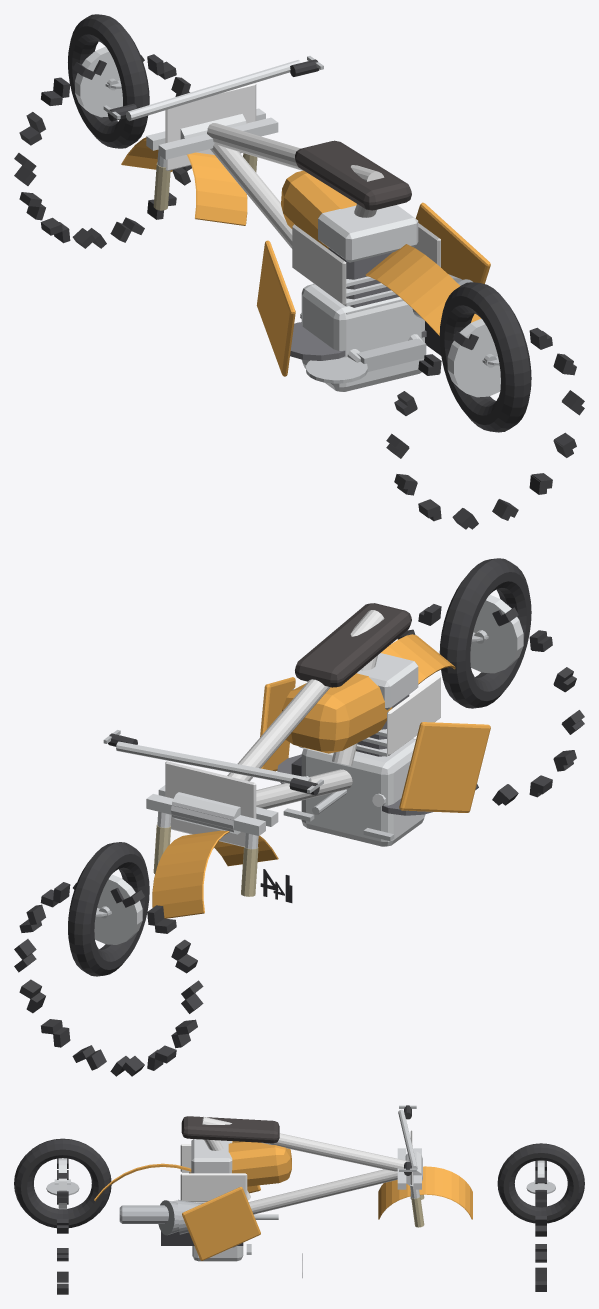
3 renders of one model, top to bottom at view 1: azimuth 30°, elevation 25°; view 2: azimuth 150°, elevation 25°; view 3: azimuth 270°, elevation 25°, orthographic. The views are drawn at different scales.
Visible parts, largest first — view 1: b_rear_wheel_tire, b_engine_case, b_front_wheel_tire, b_seat, b_engine_head, b_rear_fender, b_front_fender, b_front_plate, b_shroud_-1, b_rear_wheel_rim, b_tank, b_sideplate_-1 (+11 smaller); view 2: b_rear_wheel_tire, b_engine_case, b_shroud_-1, b_front_wheel_tire, b_tank, b_front_fender, b_seat, b_front_plate, b_frame_spine, b_rear_wheel_rim, b_sideplate_-1, b_front_wheel_rim (+8 smaller); view 3: b_rear_wheel_tire, b_front_wheel_tire, b_shroud_1, b_tank, b_front_fender, b_seat, b_frame_down, b_frame_spine, b_sideplate_1, b_engine_head, b_silencer, b_engine_case (+10 smaller).
Part boxes in pixels (x1,y1,x2,y2): b_rear_wheel_tire: (439,282,531,432); b_engine_case: (301,284,424,391); b_front_wheel_tire: (68,14,149,148); b_seat: (295,140,411,210); b_engine_head: (318,205,418,262); b_rear_fender: (365,244,480,335); b_front_fender: (121,137,247,225); b_front_plate: (165,83,256,170); b_shroud_-1: (256,240,295,376); b_rear_wheel_rim: (447,318,500,397); b_tank: (281,170,356,248); b_sideplate_-1: (292,224,346,305); b_rear_wheel_tire: (439,558,531,708); b_engine_case: (301,738,425,846); b_shroud_-1: (399,722,490,812); b_front_wheel_tire: (68,842,149,976); b_tank: (282,673,392,753); b_front_fender: (152,830,278,918); b_seat: (295,603,411,687); b_front_plate: (165,761,256,846); b_frame_spine: (227,610,384,781); b_rear_wheel_rim: (470,595,523,673); b_sideplate_-1: (387,675,440,755); b_front_wheel_rim: (94,874,142,944); b_rear_wheel_tire: (14,1138,111,1228); b_front_wheel_tire: (497,1143,584,1223); b_shroud_1: (182,1187,260,1260); b_tank: (228,1141,291,1186); b_front_fender: (378,1166,472,1219); b_seat: (181,1116,279,1143); b_frame_down: (248,1169,397,1214); b_frame_spine: (202,1116,409,1171); b_sideplate_1: (180,1173,247,1201); b_engine_head: (191,1139,232,1173); b_silencer: (119,1205,168,1223); b_engine_case: (192,1246,243,1261).
Bounding box in the file's own units: 0.772 × 0.9612 × 2.91.
